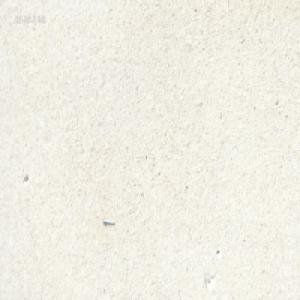Nail: (100, 215, 115, 225)
